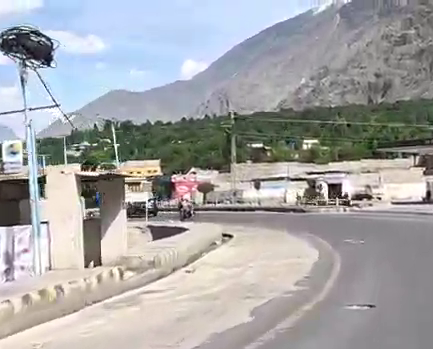right: (230, 198, 433, 283)
